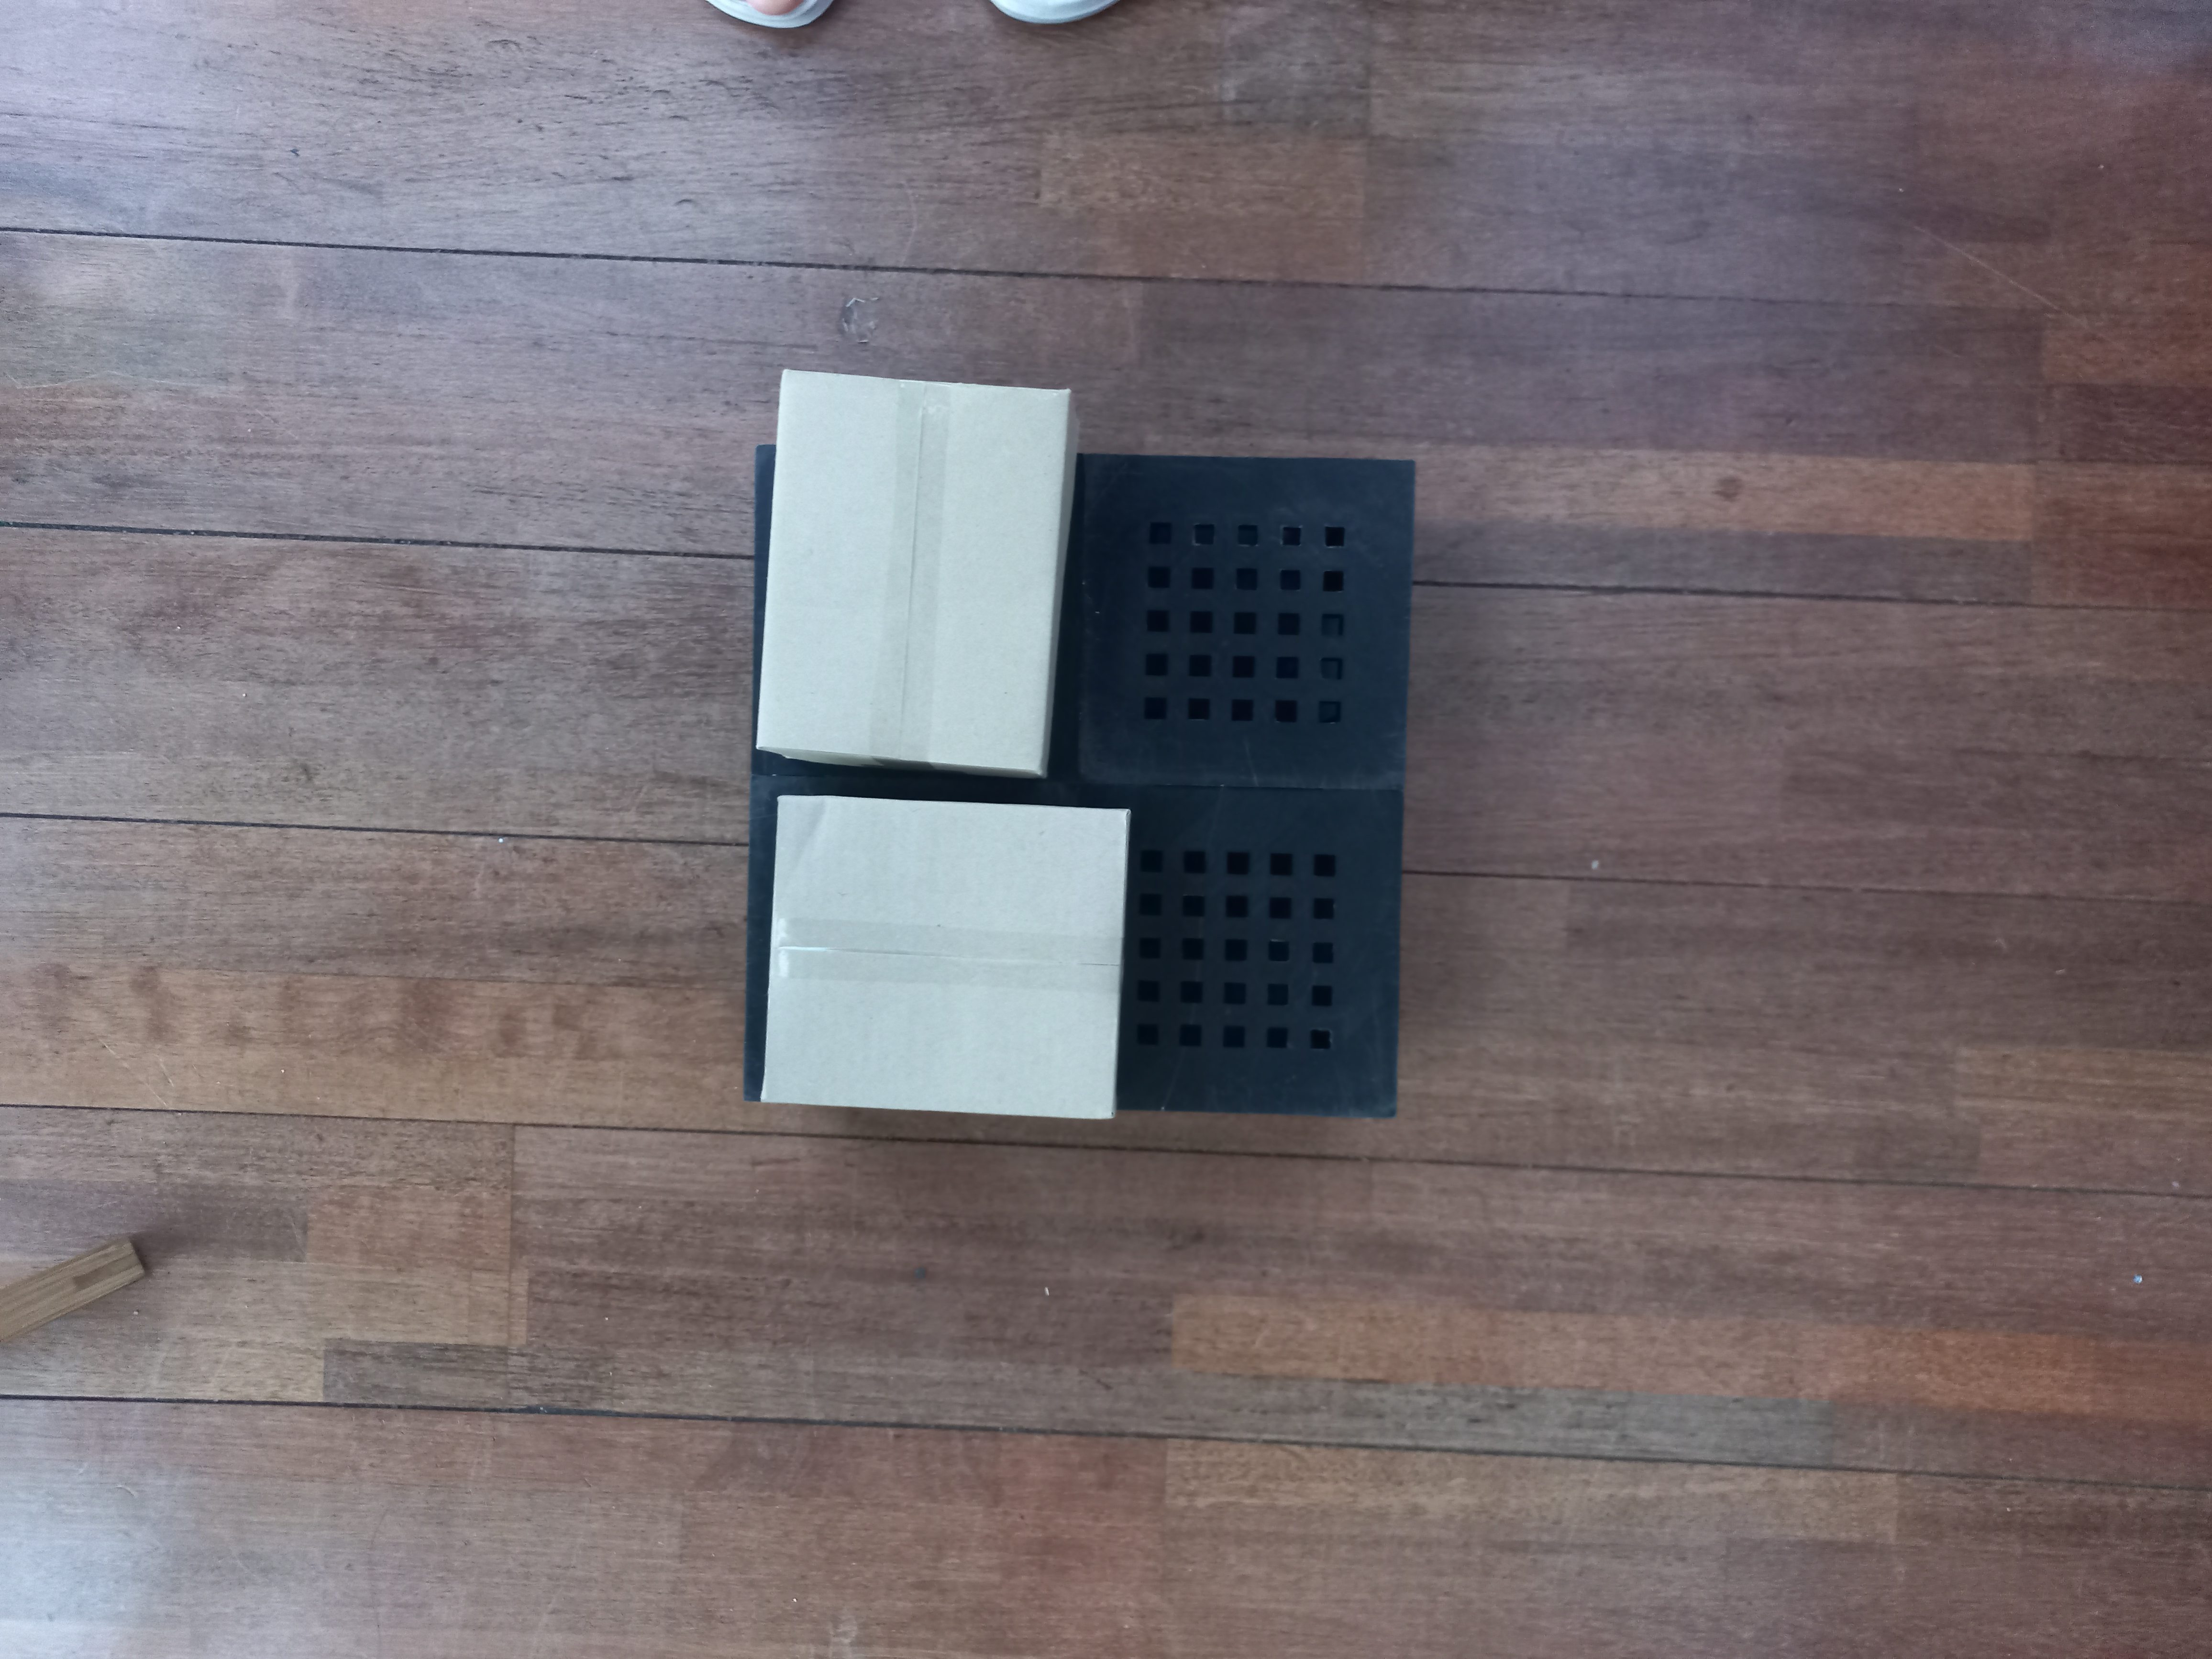box: (756, 362, 1075, 777), (759, 789, 1135, 1129)
